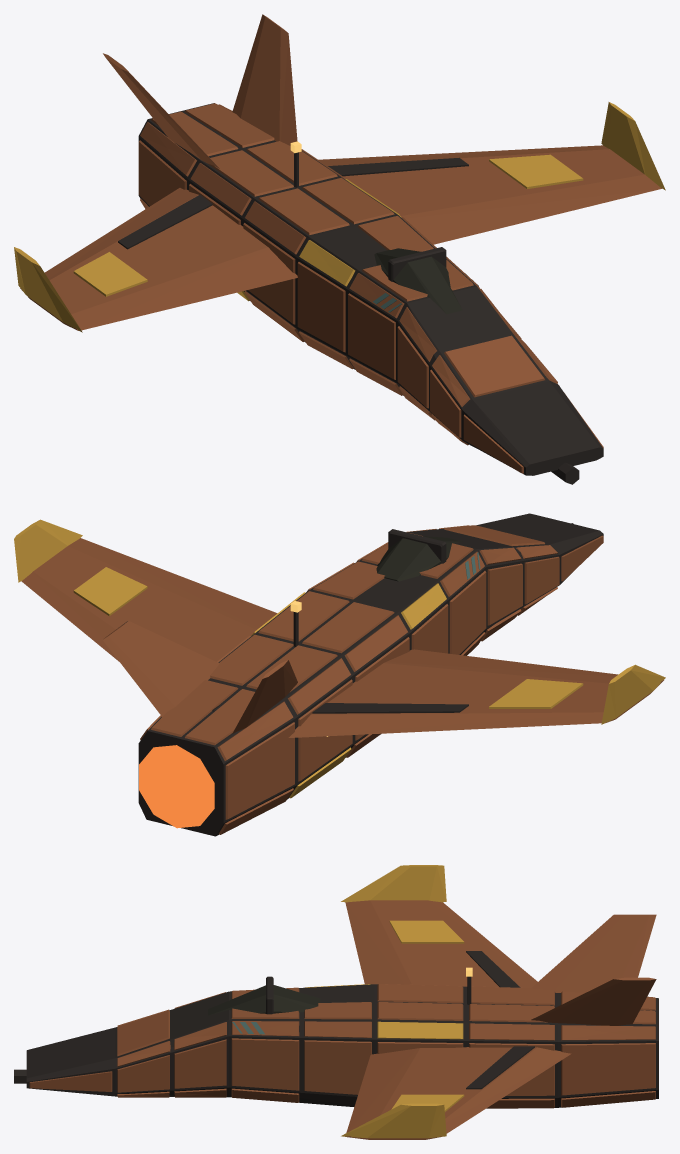
File: pirate_fighter.glb
3 views of the same model, one above another, from view 1: azimuth 30°, elevation 25°; view 2: azimuth 150°, elevation 25°; view 3: azimuth 270°, elevation 25° (orthographic). The views are drawn at different scales.
Parts seen in each view (by area): view 1: primary, structure, accent, glass; view 2: primary, structure, accent, engineGlow, glass; view 3: primary, structure, accent, glass.
Part boxes in pixels (x1,y1,x2,y2): primary: (20, 14, 661, 473); structure: (118, 103, 603, 484); accent: (14, 102, 665, 332); glass: (374, 248, 462, 314); primary: (21, 525, 663, 834); structure: (123, 513, 603, 836); accent: (14, 519, 665, 798); engineGlow: (139, 745, 214, 828); glass: (376, 536, 461, 581); primary: (29, 900, 656, 1139); structure: (14, 951, 658, 1107); accent: (305, 865, 464, 1138); glass: (208, 985, 320, 1015).
Size of the model in its own units: 8.65 by 2.41 by 9.9.
